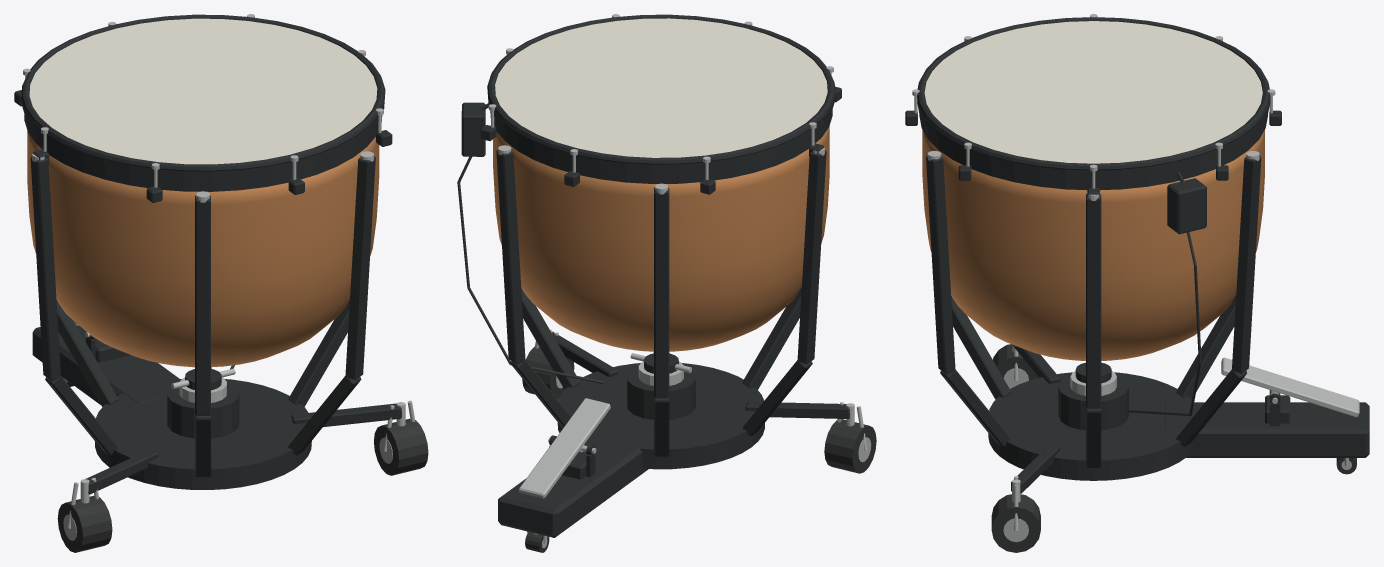
Rendered from timpani_LOD1.glb.
3 views of the same model, side by side, from view 1: azimuth 30°, elevation 25°; view 2: azimuth 150°, elevation 25°; view 3: azimuth 270°, elevation 25° (orthographic). The views are drawn at different scales.
Parts seen in each view (by area): view 1: Kettle shell with underside aperture, Taut drumhead, Lower radial platform, Counterhoop, Upper support band, Frame upper upright 3, Frame upper upright 5, Pedal pedestal, Frame upper upright 4, Counter hoop wall, Central mechanism housing, Wheel tire 1 (+8 smaller); view 2: Kettle shell with underside aperture, Taut drumhead, Lower radial platform, Pedal pedestal, Counterhoop, Upper support band, Frame upper upright 1, Frame upper upright 3, Frame upper upright 2, Pedal plate, Counter hoop wall, Central mechanism housing (+10 smaller); view 3: Kettle shell with underside aperture, Taut drumhead, Lower radial platform, Pedal pedestal, Counterhoop, Upper support band, Frame upper upright 1, Frame upper upright 5, Frame upper upright 0, Counter hoop wall, Pedal plate, Central mechanism housing (+10 smaller).
Boxes of the visible parts, x1,y1,x2,y2 form: Kettle shell with underside aperture: (27,131,379,367); Taut drumhead: (29,18,377,164); Lower radial platform: (95,379,311,489); Counterhoop: (21,14,385,171); Upper support band: (24,114,382,191); Frame upper upright 3: (30,156,60,380); Frame upper upright 5: (345,156,375,379); Pedal pedestal: (32,325,180,404); Frame upper upright 4: (195,195,210,415); Counter hoop wall: (22,101,384,177); Central mechanism housing: (167,382,239,438); Wheel tire 1: (374,418,428,475); Kettle shell with underside aperture: (493,126,829,351); Taut drumhead: (495,18,827,157); Lower radial platform: (557,363,764,469); Pedal pedestal: (498,424,652,537); Counterhoop: (487,14,835,164); Upper support band: (490,110,832,183); Frame upper upright 1: (496,150,525,364); Frame upper upright 3: (797,150,826,364); Frame upper upright 2: (654,187,669,398); Pedal plate: (519,398,610,498); Counter hoop wall: (488,96,834,170); Central mechanism housing: (627,366,695,419); Kettle shell with underside aperture: (922,130,1264,360); Taut drumhead: (924,21,1262,163); Lower radial platform: (988,372,1192,480); Pedal pedestal: (1165,402,1369,457); Counterhoop: (917,17,1270,170); Upper support band: (919,114,1267,190); Frame upper upright 1: (1232,155,1261,373); Frame upper upright 5: (926,155,955,373); Frame upper upright 0: (1086,194,1101,408); Counter hoop wall: (917,98,1270,176); Pedal plate: (1221,357,1359,417); Central mechanism housing: (1058,375,1128,430).
Size of the model in its own units: 0.8 by 0.85 by 0.94.
